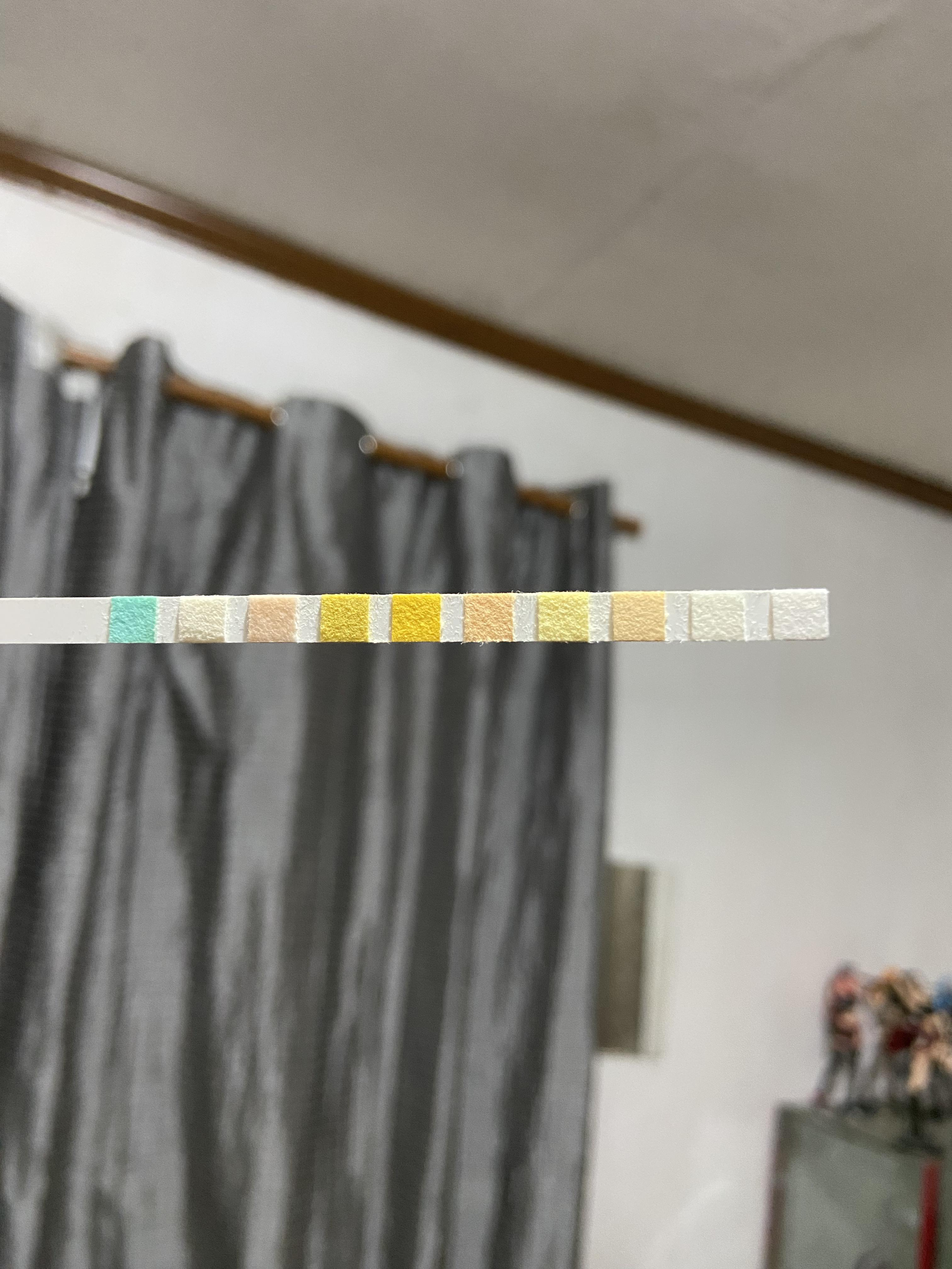Bilirubin: (181, 598, 224, 641)
Blood: (393, 596, 439, 640)
Glucose: (112, 600, 154, 642)
Ketone: (252, 598, 294, 640)
Leukocytes: (774, 592, 826, 638)
Nitrite: (693, 593, 744, 639)
Protein: (541, 595, 588, 639)
SpGravity: (323, 597, 365, 639)
Urobilinogen: (614, 593, 663, 639)
pH: (466, 596, 512, 640)
strip: (0, 589, 829, 643)
